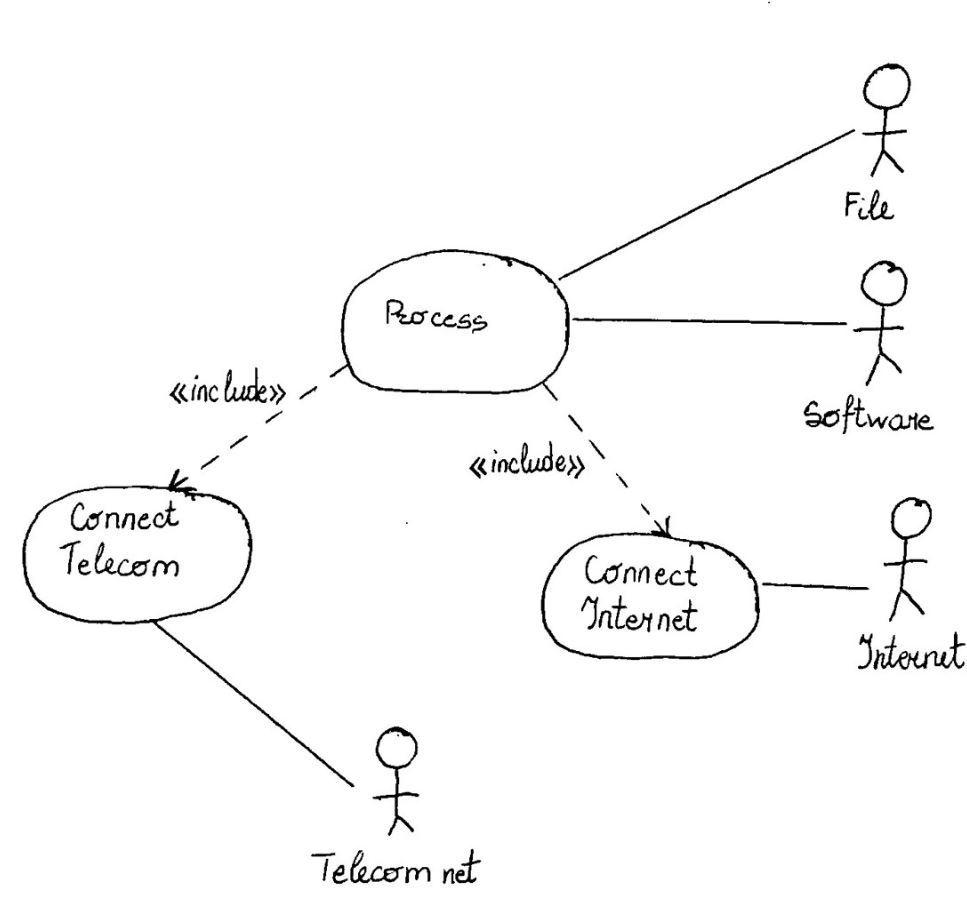actor: (852, 259, 912, 386), (371, 726, 435, 844), (883, 494, 936, 624), (862, 59, 912, 178)
association: (558, 125, 863, 281), (149, 622, 362, 794), (167, 361, 349, 492), (543, 384, 678, 540), (571, 306, 851, 338), (761, 566, 874, 604)
text: (50, 494, 197, 587), (576, 550, 716, 639), (308, 851, 487, 899), (789, 391, 949, 441), (373, 287, 495, 346), (469, 438, 588, 485), (162, 370, 289, 409), (859, 631, 967, 676), (842, 179, 899, 227)
use_case: (339, 248, 572, 396), (20, 484, 254, 627), (540, 533, 758, 662)
